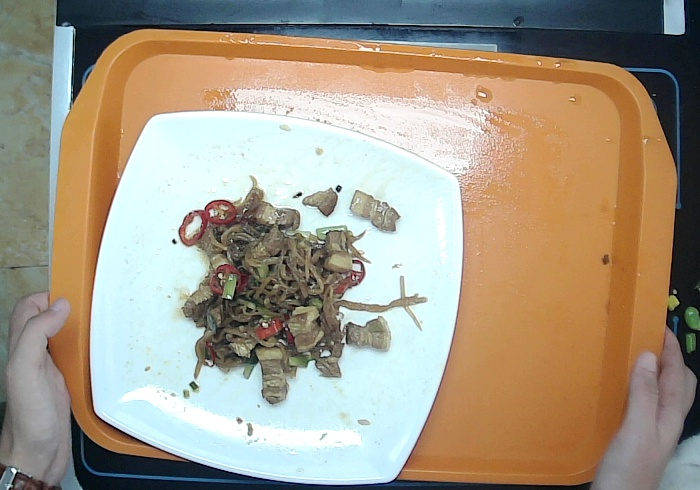ZNLD-Bai_Fang_Pan: (87, 109, 469, 485)
